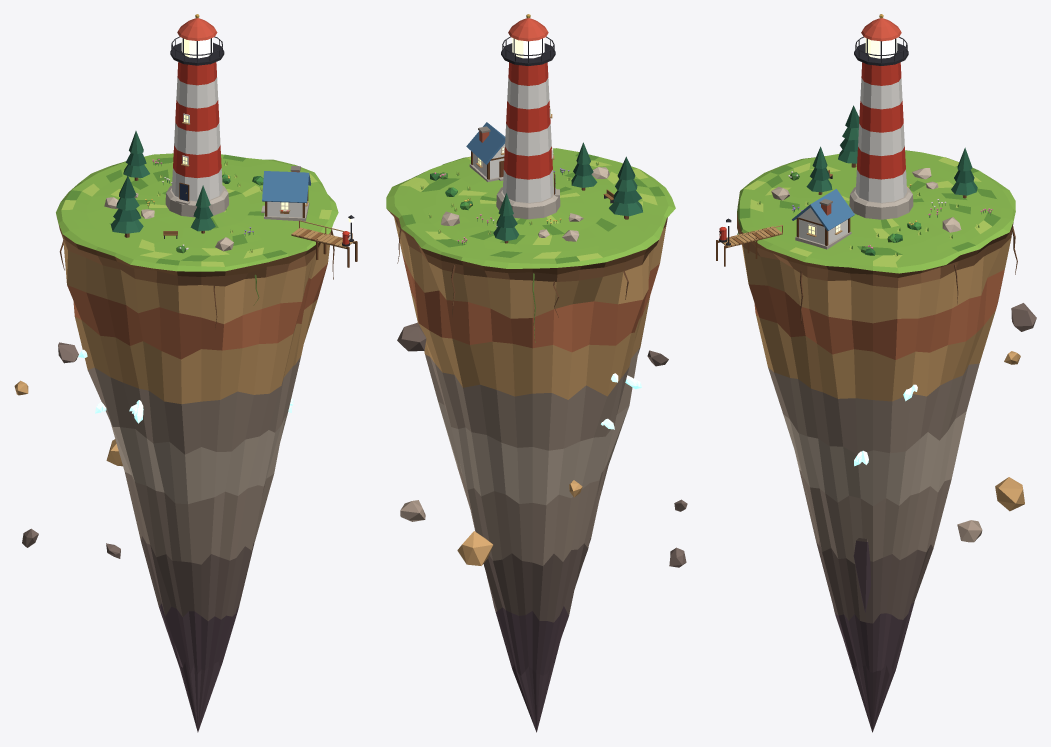
Rendered from island_lighthouse.glb.
The picture shows the model from 3 angles, left to right: view 1: azimuth 30°, elevation 25°; view 2: azimuth 150°, elevation 25°; view 3: azimuth 270°, elevation 25°; orthographic projection.
Parts seen in each view (by area): view 1: Island-col, Dressing, Debris; view 2: Island-col, Dressing, Debris; view 3: Island-col, Dressing, Debris.
Boxes of the visible parts, left/top/right/bottom form: Island-col: left=56, top=153, right=338, bottom=732; Dressing: left=104, top=14, right=357, bottom=267; Debris: left=14, top=342, right=122, bottom=558; Island-col: left=386, top=148, right=675, bottom=732; Dressing: left=420, top=14, right=642, bottom=245; Debris: left=397, top=322, right=687, bottom=567; Island-col: left=737, top=150, right=1015, bottom=732; Dressing: left=716, top=14, right=992, bottom=266; Debris: left=957, top=303, right=1036, bottom=542.
Size of what is drawn, in the model's own units: 40.76 by 95.92 by 38.7.
